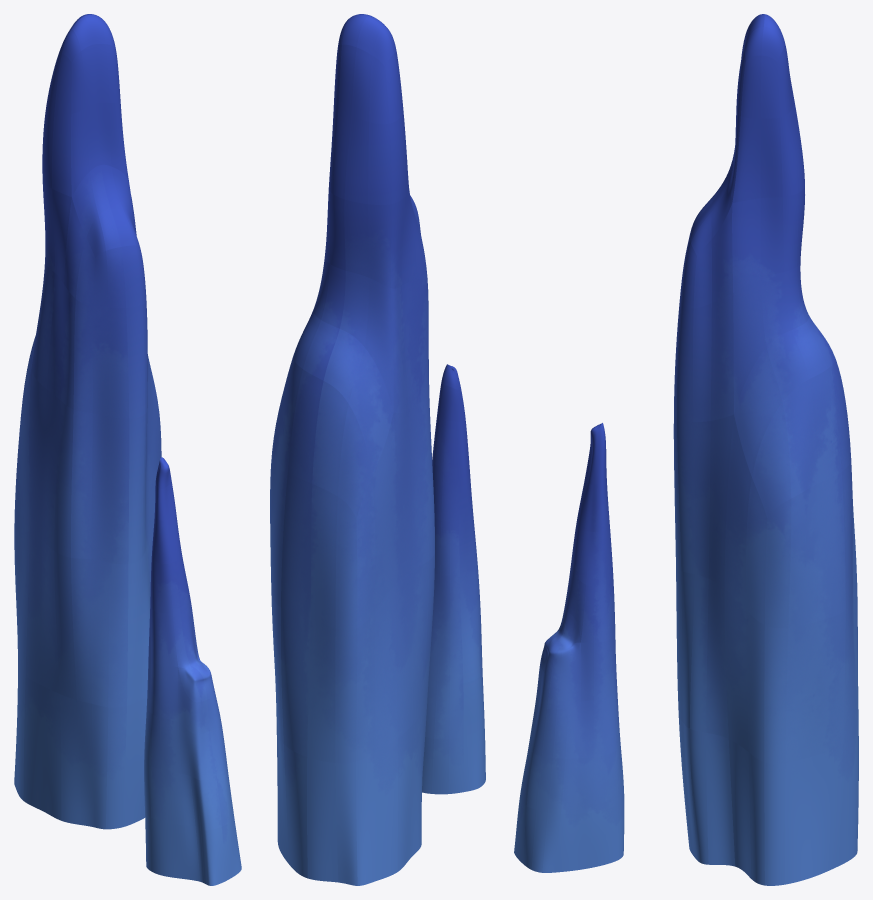
Rendered from mountain_1_2.fbx.
3 views of the same model, side by side, from view 1: azimuth 30°, elevation 25°; view 2: azimuth 150°, elevation 25°; view 3: azimuth 270°, elevation 25° (orthographic). The views are drawn at different scales.
Visible parts, largest first — view 1: Cube.001, Cube; view 2: Cube.001, Cube; view 3: Cube.001, Cube.
Boxes of the visible parts, left/top/right/bottom form: Cube.001: left=14, top=14, right=161, bottom=829; Cube: left=144, top=457, right=241, bottom=885; Cube.001: left=270, top=14, right=434, bottom=885; Cube: left=422, top=364, right=485, bottom=794; Cube.001: left=673, top=14, right=858, bottom=885; Cube: left=514, top=423, right=624, bottom=872.
Size of the model in its own units: 1148 by 6935 by 2605.
